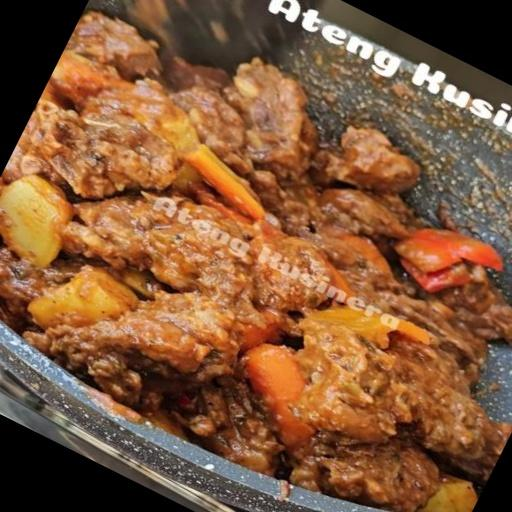pork caldereta: (0, 15, 511, 511)
